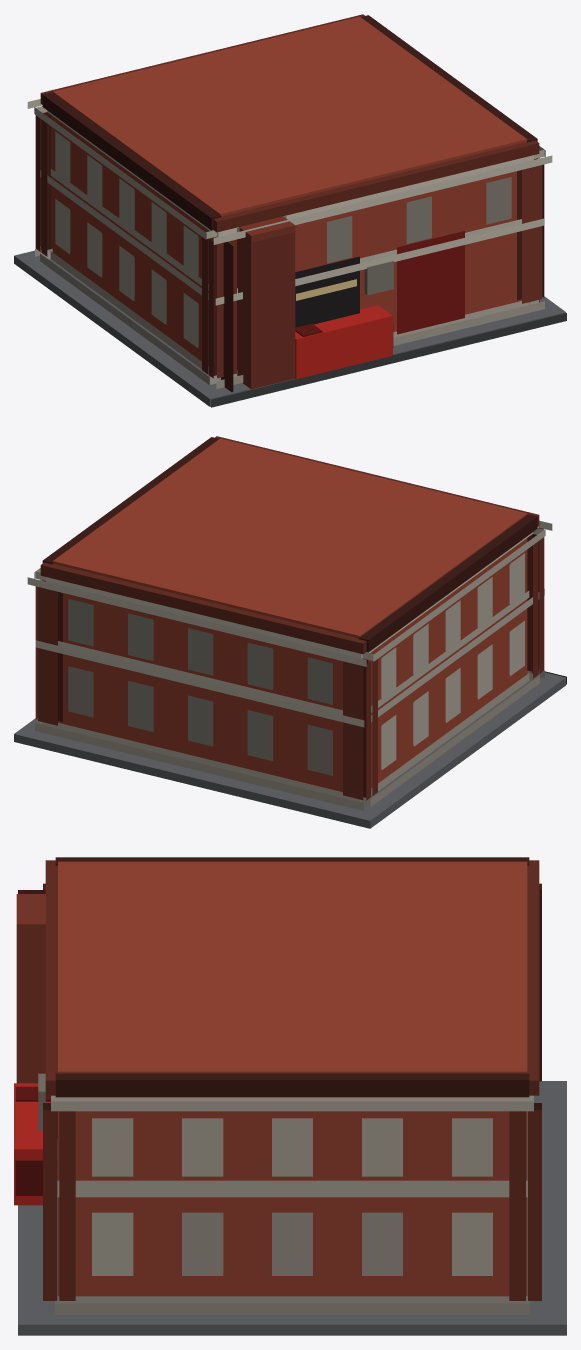
Rendered from BlazeOstrichSil.fbx.
3 views of the same model, one above another, from view 1: azimuth 30°, elevation 25°; view 2: azimuth 150°, elevation 25°; view 3: azimuth 270°, elevation 25° (orthographic). The views are drawn at different scales.
Visible parts, largest first — view 1: FH_S_All; view 2: FH_S_All; view 3: FH_S_All.
Boxes of the visible parts, x1,y1,x2,y2 form: FH_S_All: [14, 14, 566, 407]; FH_S_All: [14, 436, 566, 828]; FH_S_All: [14, 857, 566, 1335].
Bounding box in the file's own units: 42.04 × 19.9 × 40.34.
